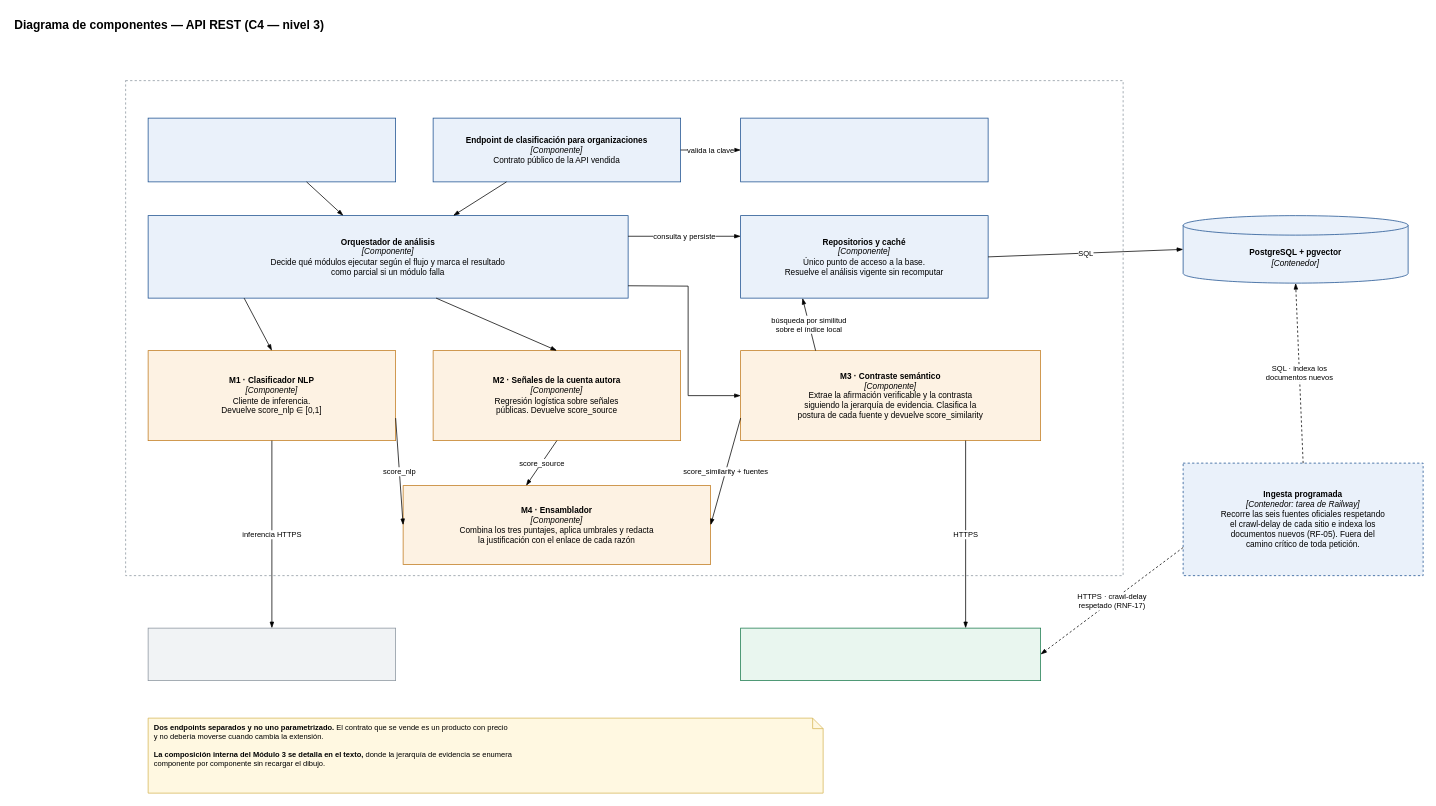
Image size: 1436x806. Some labels were removed from this diagram. The box of each missing label's shape, as (x1, y1, x2, y2) in pixels:
API REST · Python + FastAPI · Railway: (125, 80, 1123, 576)
Autenticación y cuotas [Componente] Valida la clave, descuenta consumo: (740, 117, 988, 182)
Endpoint de análisis [Componente] Recibe los pedidos de la extensión: (147, 117, 396, 182)
Fuentes oficiales, medios y verificadores [Externos]: (740, 627, 1041, 681)
Servicio de inferencia [Externo] Clasificador BETO: (147, 627, 396, 681)
